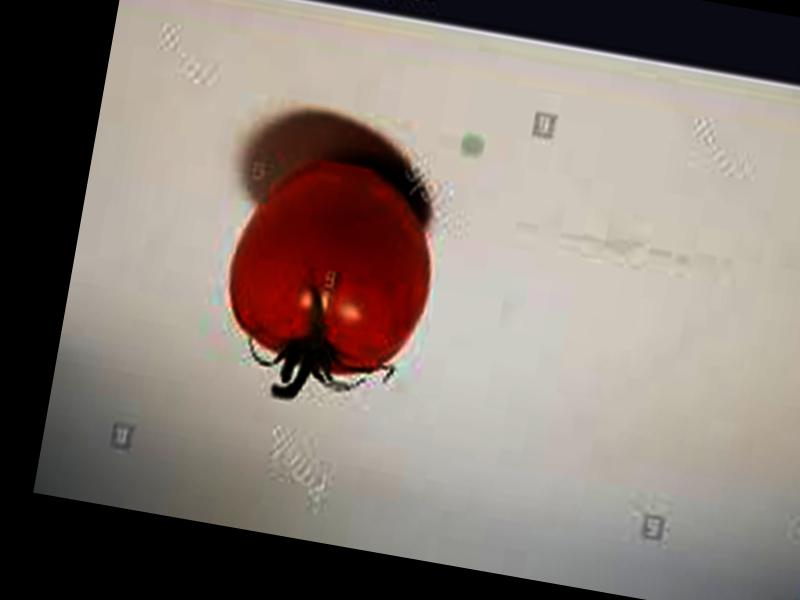Tomato: (219, 144, 447, 383)
